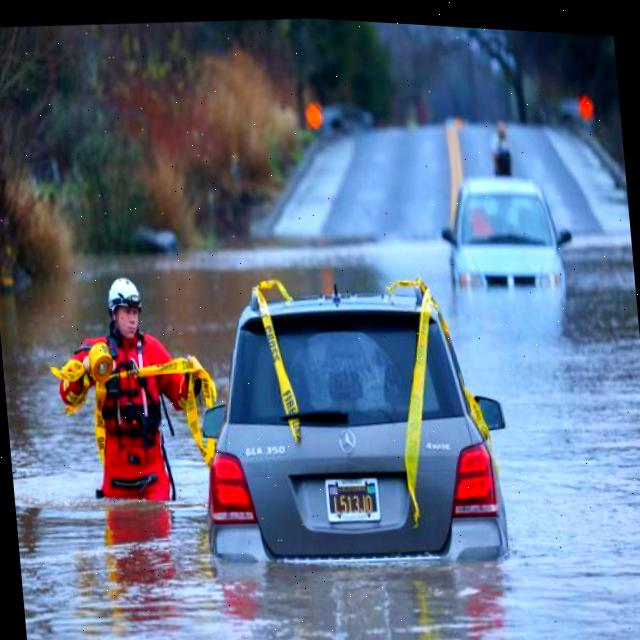rescuer: (42, 259, 215, 542)
